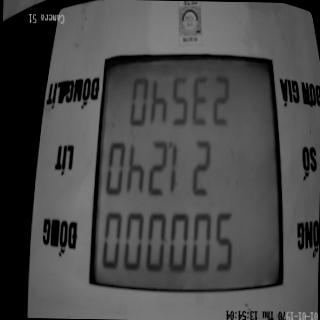screen: (83, 44, 290, 313)
